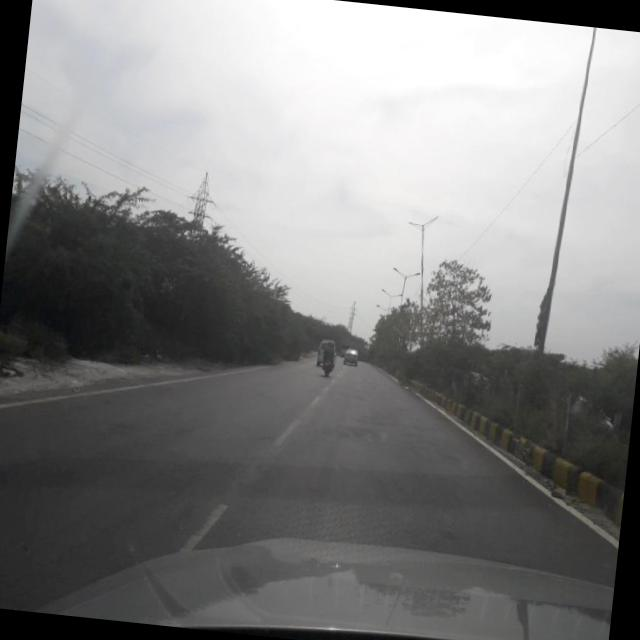pothole: (90, 409, 143, 439)
